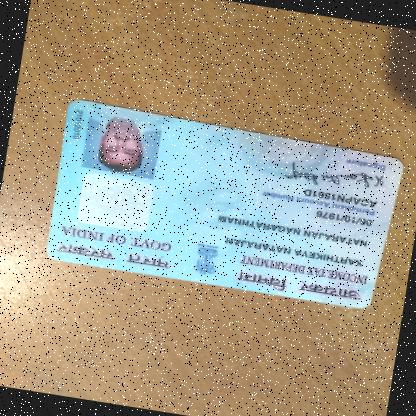pan_card: (42, 90, 407, 319)
